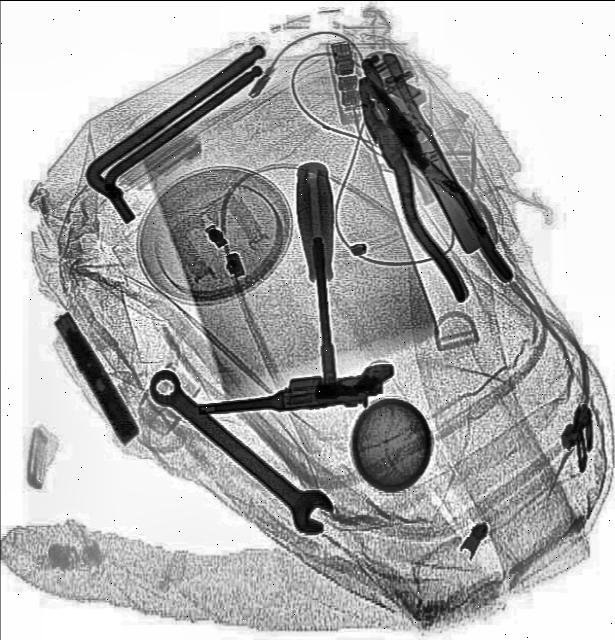Gun: (51, 310, 145, 448), (195, 366, 397, 422)
Pliers: (332, 63, 518, 311)
Wrench: (140, 359, 344, 545)
